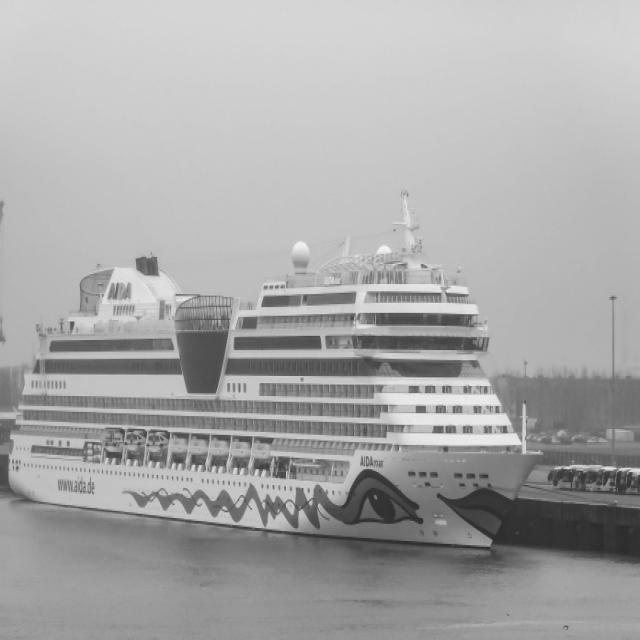cruises: (1, 179, 544, 571)
